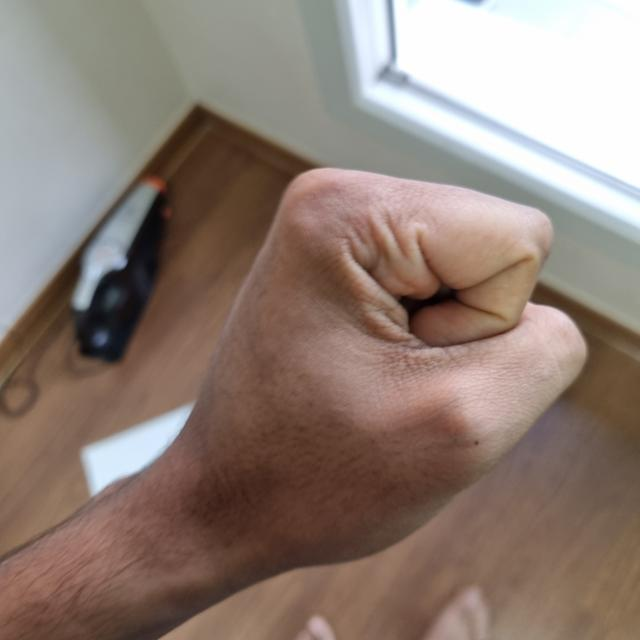Rock: (176, 170, 574, 558)
